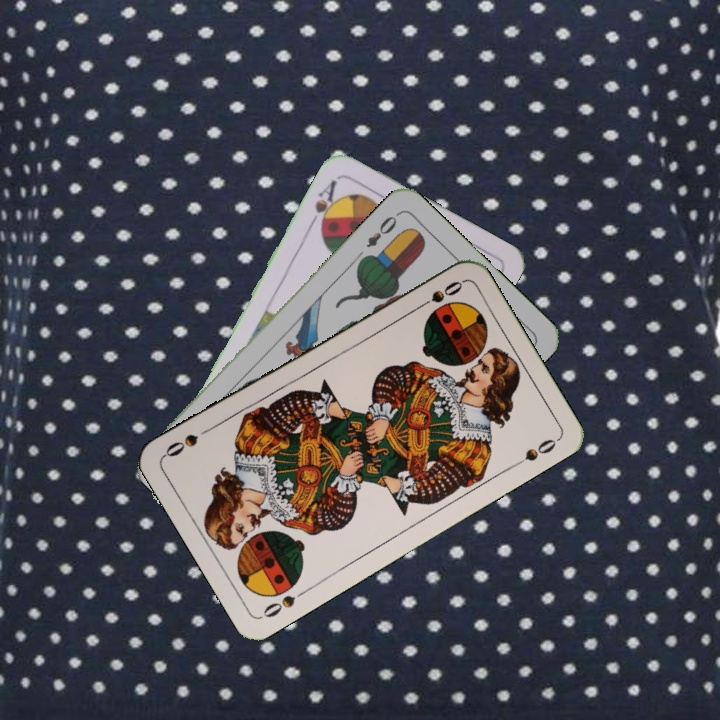EO: (362, 208, 402, 251)
SA: (305, 175, 342, 233)
SO: (411, 277, 466, 313), (259, 584, 311, 621)
